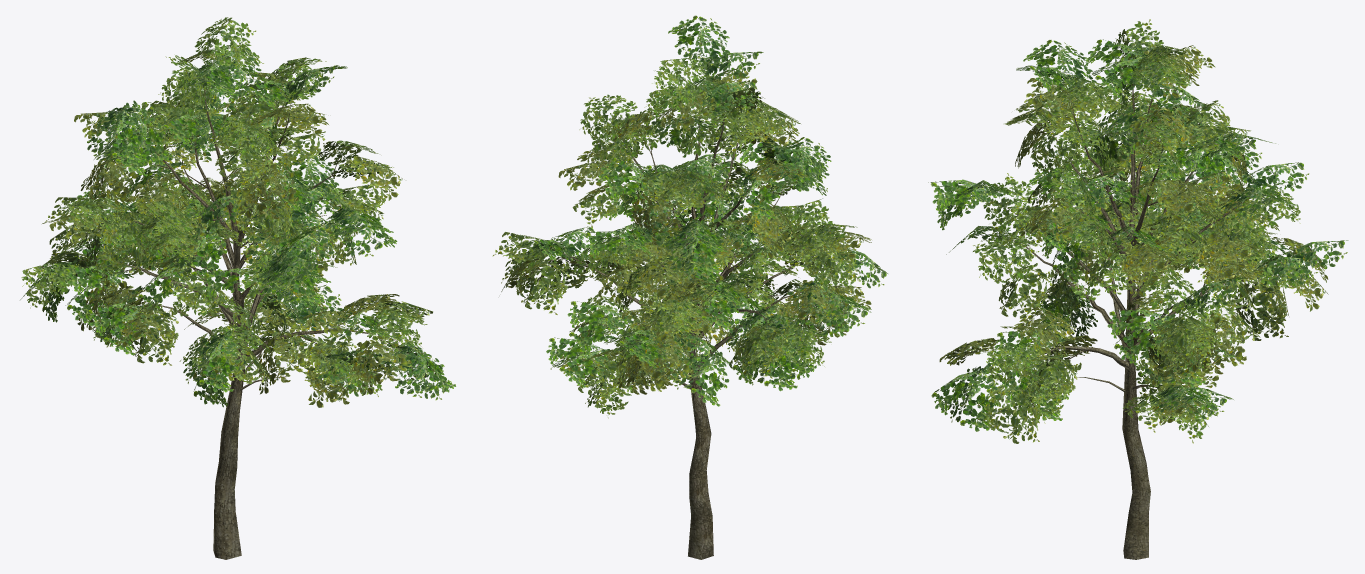
File: tree1a_lod0.gltf
The picture shows the model from 3 angles, left to right: view 1: azimuth 30°, elevation 25°; view 2: azimuth 150°, elevation 25°; view 3: azimuth 270°, elevation 25°; orthographic projection. The views are drawn at different scales.
Parts seen in each view (by area): view 1: polySurface1041.000, polySurface101.000; view 2: polySurface1041.000, polySurface101.000; view 3: polySurface1041.000, polySurface101.000.
Part boxes in pixels (bbox=[...]): polySurface1041.000: bbox=[20, 17, 455, 407]; polySurface101.000: bbox=[78, 74, 399, 559]; polySurface1041.000: bbox=[492, 15, 887, 418]; polySurface101.000: bbox=[548, 100, 813, 559]; polySurface1041.000: bbox=[928, 19, 1348, 443]; polySurface101.000: bbox=[999, 78, 1281, 559].
Bounding box in the file's own units: 15.24 × 20.59 × 15.51.
2 materials, 2 textured.
